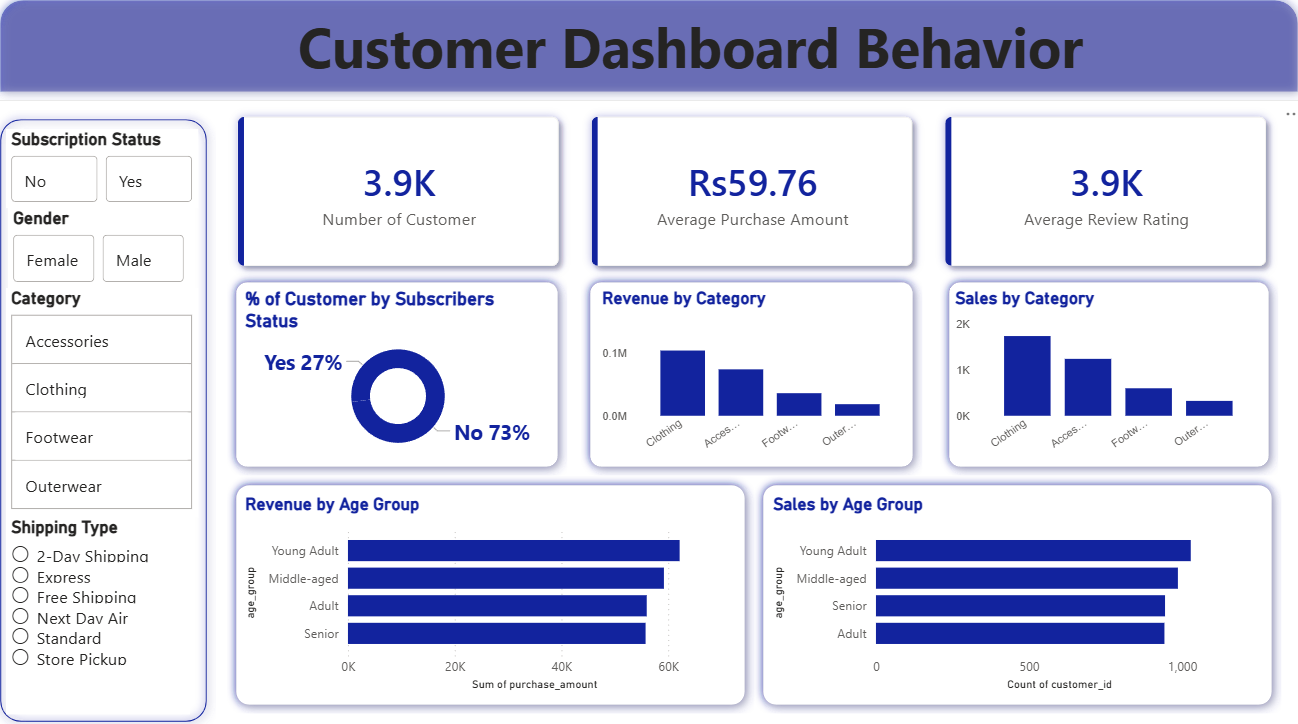

The page's visual inventory and layout, read from the dashboard file:
{"tool":"powerbi","page":{"name":"Page 1","canvas":[1280,720],"ordinal":0},"visuals":[{"type":"cardVisual","fields":{"Data":["customer_behavior customer.Number of Customer","customer_behavior customer.Average Purchase Amount","customer_behavior customer.Average Review Rating"]},"box":[211.1,93.4,1058.2,203.3],"z":0},{"type":"shape","box":[0,0,1280,107],"z":1000},{"type":"shape","box":[229.5,274.3,330.7,197.4],"z":3000},{"type":"donutChart","title":"% of Customer by Subscribers Status","fields":{"Category":["customer_behavior customer.subscription_status"],"Y":["CountNonNull(customer_behavior customer.customer_id)"]},"box":[242.2,288.9,307.4,168.3],"z":4000},{"type":"shape","box":[573.9,274.3,331.7,197.4],"z":5000},{"type":"shape","box":[923,274.3,328.8,197.4],"z":6000},{"type":"clusteredColumnChart","title":"Revenue by Category","fields":{"Category":["customer_behavior customer.category"],"Y":["Sum(customer_behavior customer.purchase_amount)"]},"box":[589.4,288.9,304.4,168.3],"z":7000},{"type":"clusteredColumnChart","title":"Sales by Category","fields":{"Category":["customer_behavior customer.category"],"Y":["CountNonNull(customer_behavior customer.customer_id)"]},"box":[932.8,288.9,305.4,168.3],"z":8000},{"type":"shape","box":[0,115.7,218.8,604],"z":9000},{"type":"advancedSlicerVisual","title":"Subscription Status","fields":{"Values":["customer_behavior customer.subscription_status"]},"box":[14.6,134.2,186.7,76.8],"z":10000},{"type":"advancedSlicerVisual","title":"Category ","fields":{"Values":["customer_behavior customer.category"]},"box":[14.6,288.9,186.7,222.7],"z":12000},{"type":"listSlicer","title":"Shipping Type","fields":{"Values":["customer_behavior customer.shipping_type"]},"box":[14.6,511.6,179,191.6],"z":13000},{"type":"shape","box":[229.5,471.7,512.6,231.5],"z":13001},{"type":"clusteredBarChart","title":"Revenue by Age Group","fields":{"Y":["Sum(customer_behavior customer.purchase_amount)"],"Category":["customer_behavior customer.age_group"]},"box":[242.2,489.2,483.4,195.5],"z":13002},{"type":"shape","box":[742.1,471.7,512.6,231.5],"z":13003},{"type":"clusteredBarChart","title":"Sales by Age Group","fields":{"Category":["customer_behavior customer.age_group"],"Y":["CountNonNull(customer_behavior customer.customer_id)"]},"box":[755.7,489.2,482.4,195.5],"z":13004},{"type":"textbox","box":[218.8,11.7,923,95.3],"z":13005},{"type":"advancedSlicerVisual","title":"Gender","fields":{"Values":["customer_behavior customer.gender"]},"box":[16.5,211.1,177,77.8],"z":13006}]}

Visuals, with their boxes in screenshot pixels (x1, y1, x2, y2), scaled from the page's 1280x720 canvas onto the 1298x724 screenshot:
cardVisual - customer_behavior customer.Number of Customer x customer_behavior customer.Average Purchase Amount: Rect(214, 94, 1287, 298)
shape: Rect(0, 0, 1297, 108)
shape: Rect(233, 276, 568, 474)
"% of Customer by Subscribers Status" donutChart: Rect(246, 291, 557, 460)
shape: Rect(582, 276, 918, 474)
shape: Rect(936, 276, 1269, 474)
"Revenue by Category" clusteredColumnChart: Rect(598, 291, 906, 460)
"Sales by Category" clusteredColumnChart: Rect(946, 291, 1256, 460)
shape: Rect(0, 116, 222, 723)
"Subscription Status" advancedSlicerVisual: Rect(15, 135, 204, 212)
"Category " advancedSlicerVisual: Rect(15, 291, 204, 514)
"Shipping Type" listSlicer: Rect(15, 514, 196, 707)
shape: Rect(233, 474, 753, 707)
"Revenue by Age Group" clusteredBarChart: Rect(246, 492, 736, 689)
shape: Rect(753, 474, 1272, 707)
"Sales by Age Group" clusteredBarChart: Rect(766, 492, 1256, 689)
textbox: Rect(222, 12, 1158, 108)
"Gender" advancedSlicerVisual: Rect(17, 212, 196, 291)
